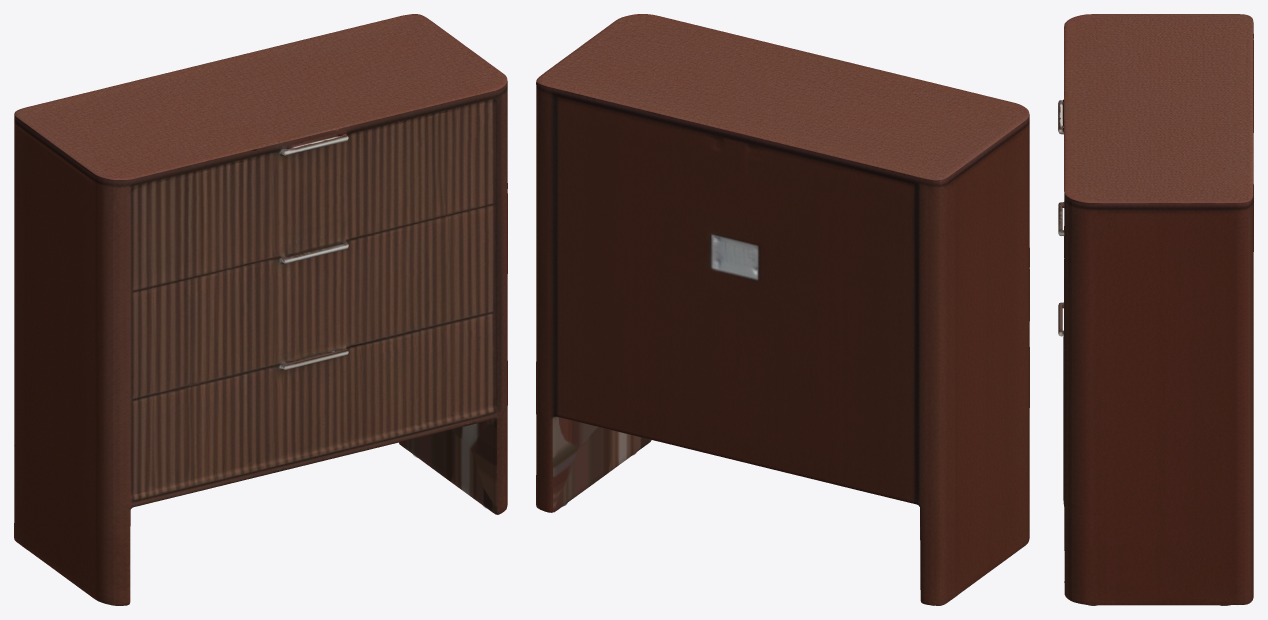
The model's file is cabinet__cabinet#4.glb.
3 views of the same model, side by side, from view 1: azimuth 30°, elevation 25°; view 2: azimuth 150°, elevation 25°; view 3: azimuth 270°, elevation 25° (orthographic). The views are drawn at different scales.
Visible parts, largest first — view 1: tmp3si1j32b.ply; view 2: tmp3si1j32b.ply; view 3: tmp3si1j32b.ply.
Part boxes in pixels (x1,y1,x2,y2): tmp3si1j32b.ply: [14, 14, 507, 605]; tmp3si1j32b.ply: [536, 14, 1029, 605]; tmp3si1j32b.ply: [1058, 14, 1253, 605].
Bounding box in the file's own units: 1.98 × 1.99 × 0.8676.
Materials: 1 (1 with a texture image).
